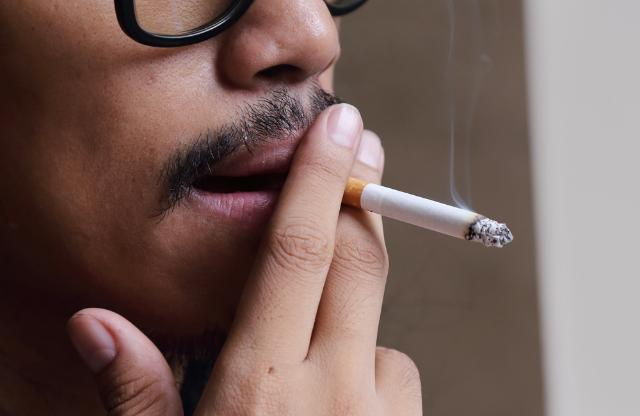Cigarette: (308, 168, 516, 249)
